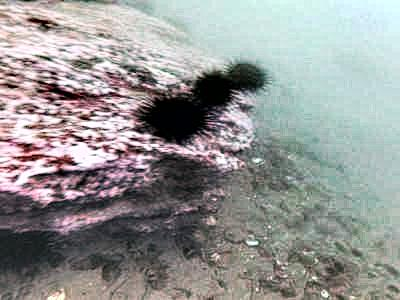urchin: (134, 91, 208, 141), (3, 228, 54, 271), (225, 59, 270, 91), (192, 69, 229, 106)
